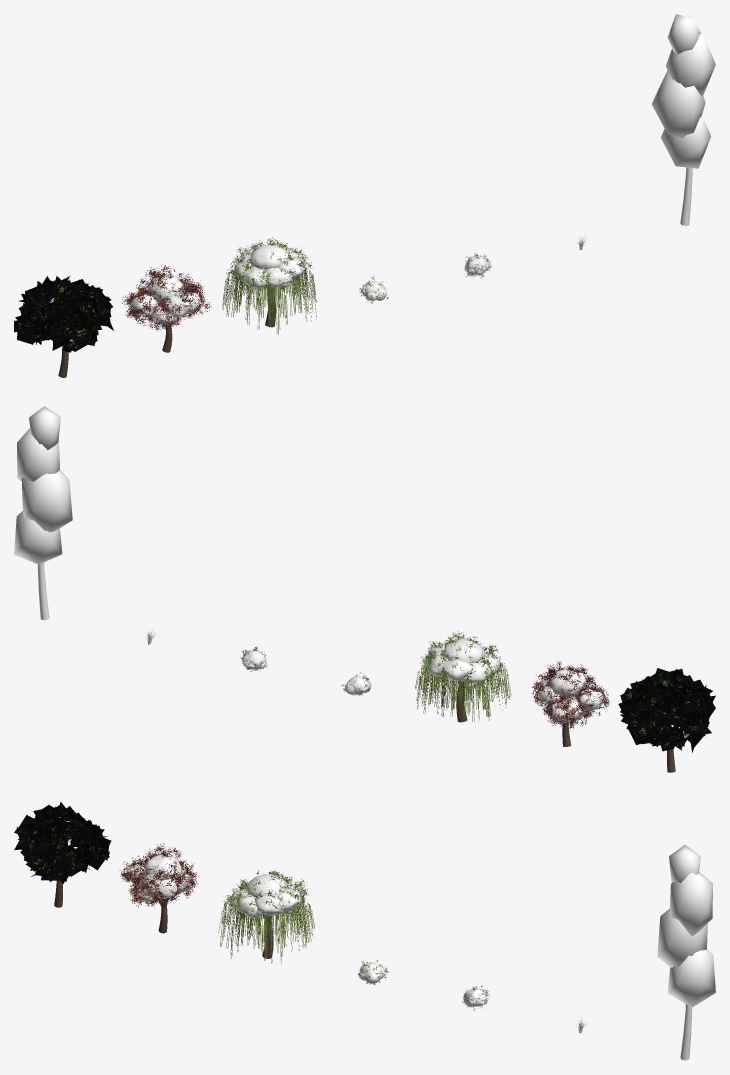
The model's file is vegetacion.glb.
3 views of the same model, one above another, from view 1: azimuth 30°, elevation 25°; view 2: azimuth 150°, elevation 25°; view 3: azimuth 330°, elevation 25° (orthographic).
Parts seen in each view (by area): view 1: eucalipto.001, fresno_hojas, sauce_hojas, colorado_hojas, sauce_follaje, colorado_follaje, sauce_copa; view 2: eucalipto.001, fresno_hojas, sauce_hojas, colorado_hojas, sauce_follaje, colorado_follaje, sauce_copa; view 3: eucalipto.001, fresno_hojas, sauce_hojas, colorado_hojas, sauce_follaje, colorado_follaje, sauce_copa, bocha_follaje.
Part boxes in pixels (left/top/right/bottom): eucalipto.001: left=651, top=14, right=715, bottom=225; fresno_hojas: left=14, top=276, right=113, bottom=352; sauce_hojas: left=222, top=266, right=316, bottom=334; colorado_hojas: left=121, top=265, right=211, bottom=331; sauce_follaje: left=233, top=244, right=305, bottom=289; colorado_follaje: left=130, top=274, right=202, bottom=324; sauce_copa: left=226, top=237, right=313, bottom=293; eucalipto.001: left=14, top=406, right=72, bottom=620; fresno_hojas: left=618, top=668, right=715, bottom=752; sauce_hojas: left=415, top=662, right=511, bottom=722; colorado_hojas: left=531, top=661, right=609, bottom=730; sauce_follaje: left=428, top=638, right=499, bottom=683; colorado_follaje: left=538, top=669, right=603, bottom=723; sauce_copa: left=418, top=631, right=505, bottom=690; eucalipto.001: left=657, top=845, right=715, bottom=1060; fresno_hojas: left=14, top=802, right=111, bottom=883; sauce_hojas: left=218, top=894, right=314, bottom=963; colorado_hojas: left=119, top=843, right=198, bottom=907; sauce_follaje: left=230, top=874, right=301, bottom=917; colorado_follaje: left=126, top=854, right=192, bottom=902; sauce_copa: left=223, top=870, right=308, bottom=922; bocha_follaje: left=359, top=962, right=385, bottom=983.
Bounding box in the file's own units: 60.16 × 17.83 × 7.72.
9 materials, 6 textured.
